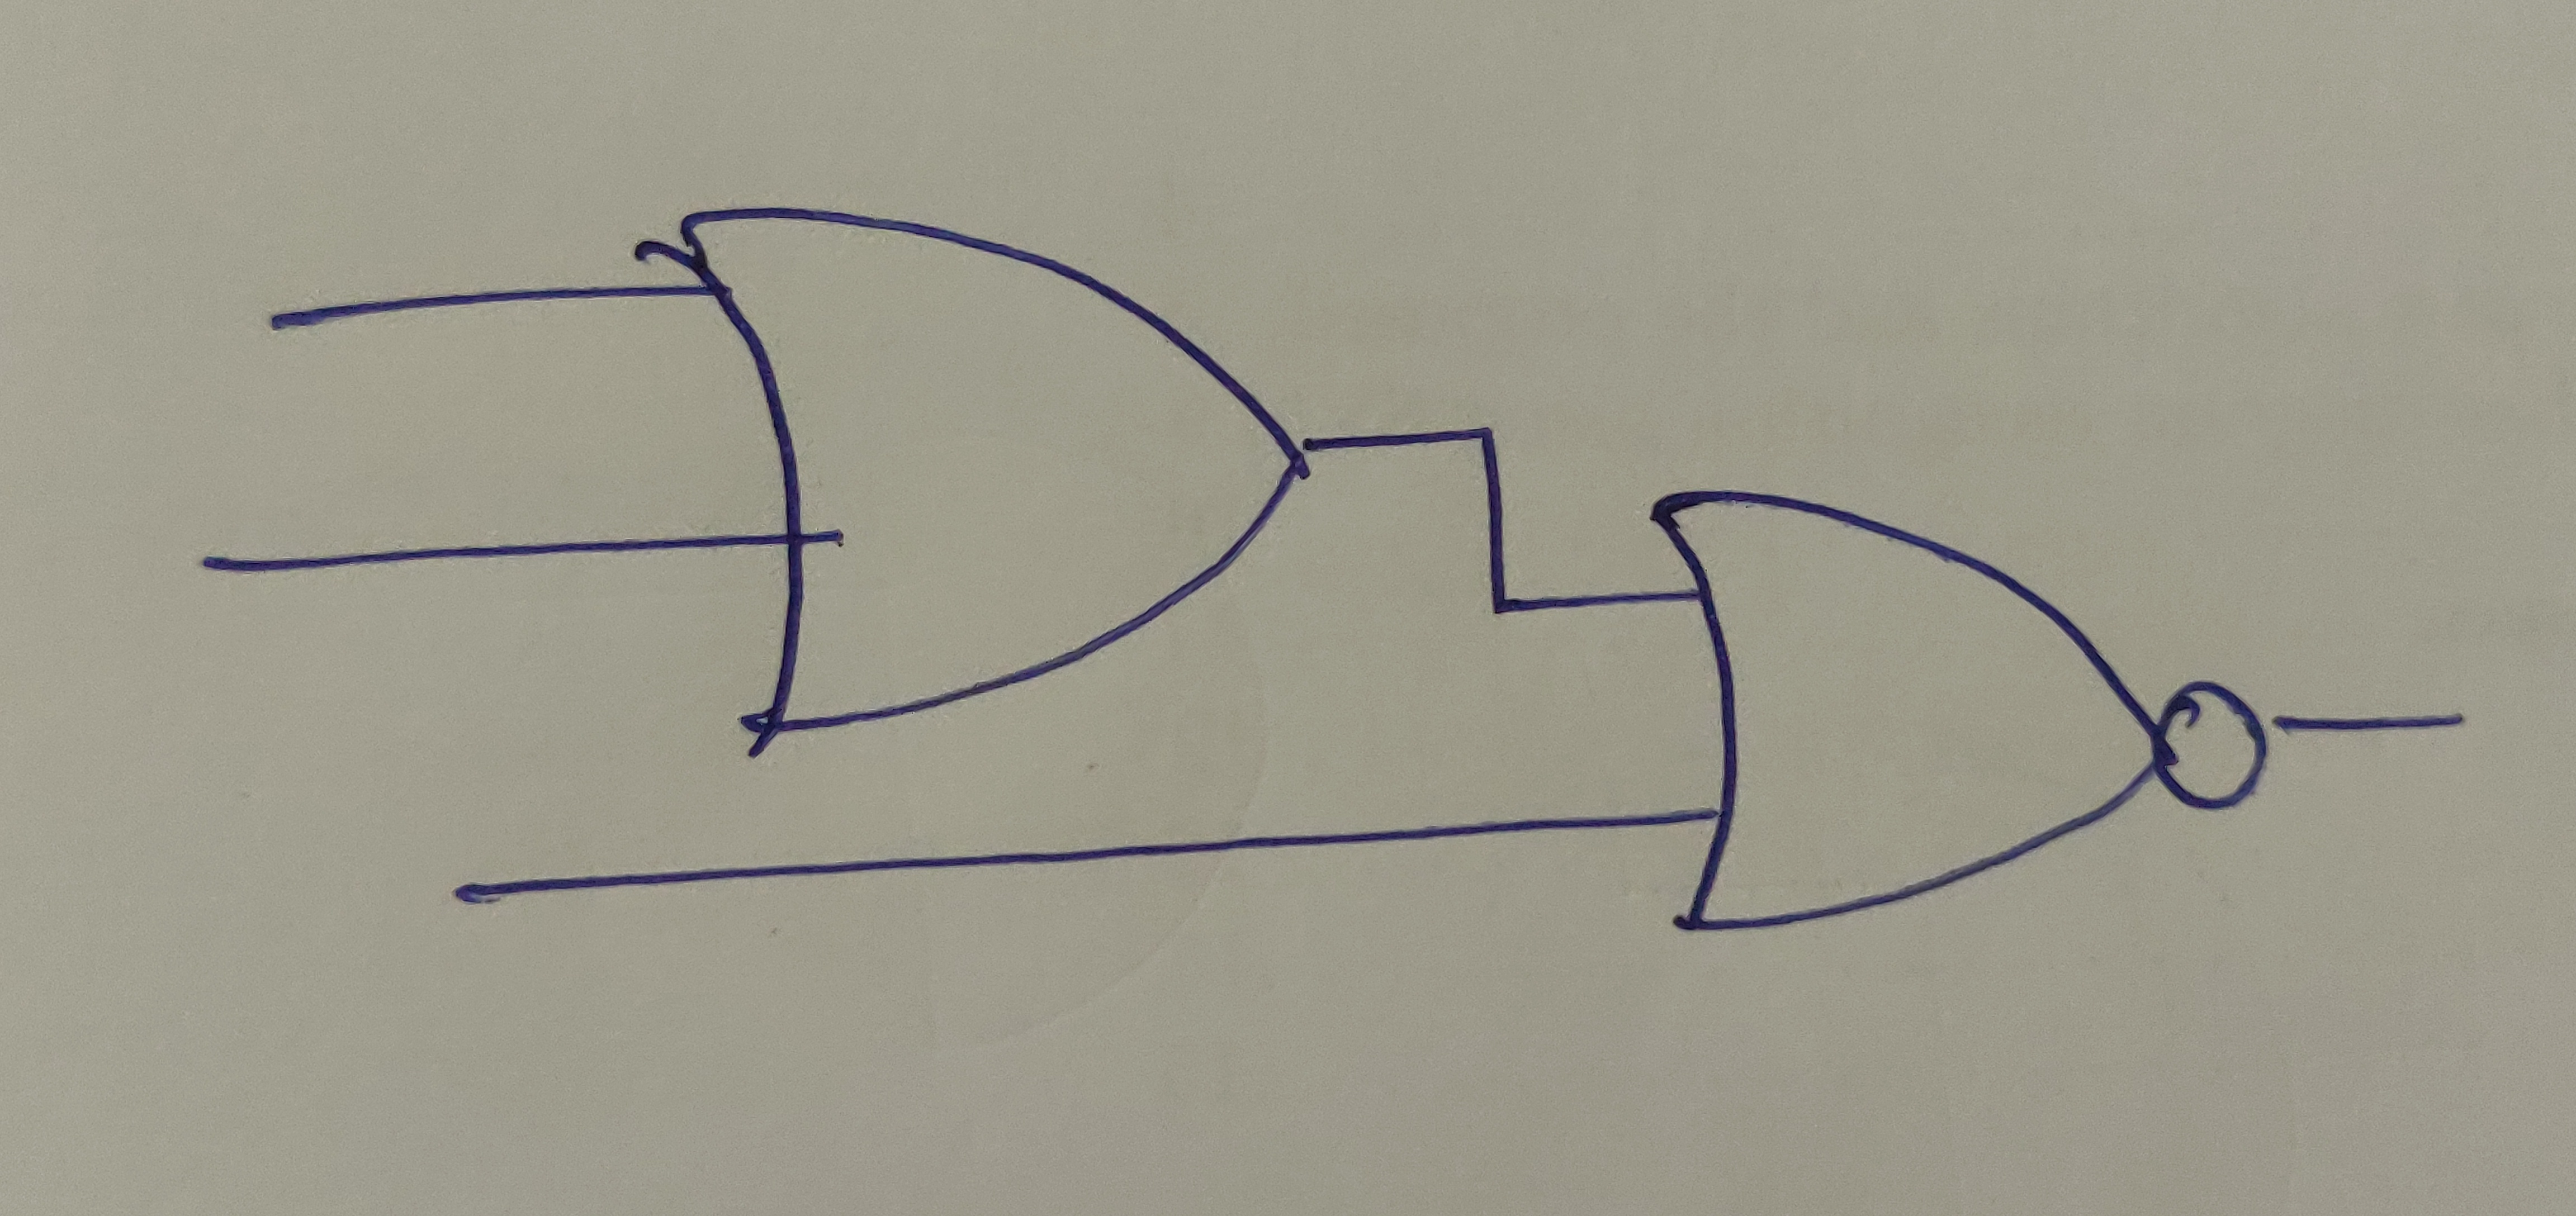not: (2152, 672, 2269, 818)
or: (670, 202, 1308, 735), (1641, 491, 2159, 938)
